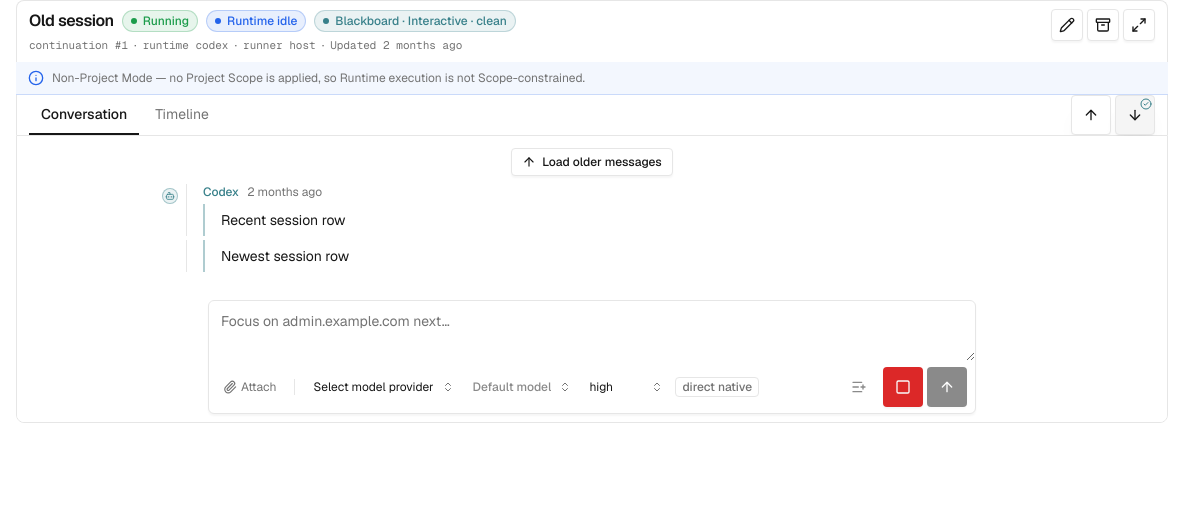
Test case: SessionDetailPage Runtime Owner History Window (#202) › pages older Session transcript rows with a before cursor
Expected: the text "Recent session row" is shown, [203,204,1022,236]
Click the button with test id "load-older-transcript".
click(592, 162)  # box [511,148,673,176]
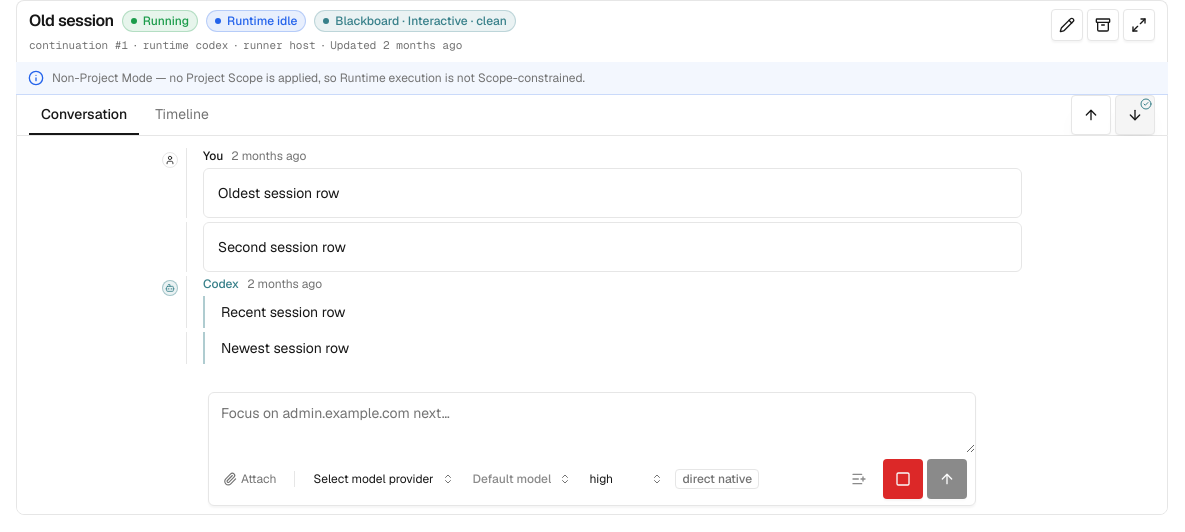
Expected: the number of elements with test id "transcript-row" is 4, [162,148,1022,218]; [162,222,1022,272]; [162,276,1022,328]; [162,332,1022,364]
Expected: the text "Oldest session row" is shown, [203,168,1022,218]
Expected: the button with test id "load-older-transcript" is gone
